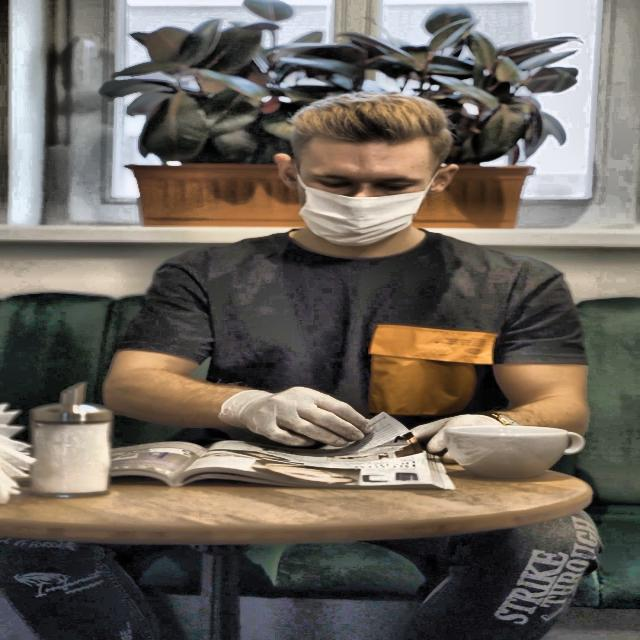gloved: (194, 370, 380, 452)
